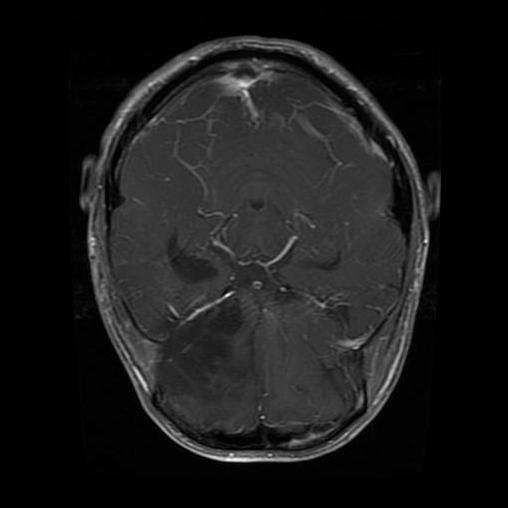Tumour-Glioma: (152, 267, 256, 409)
